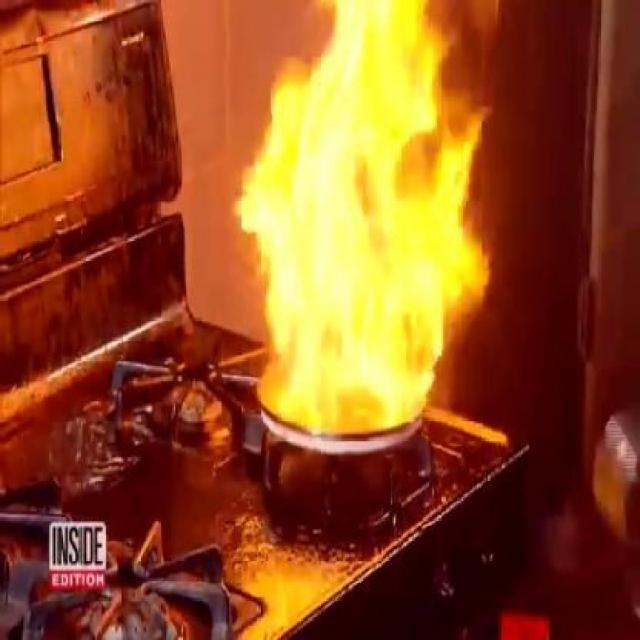fire: (241, 21, 434, 417)
